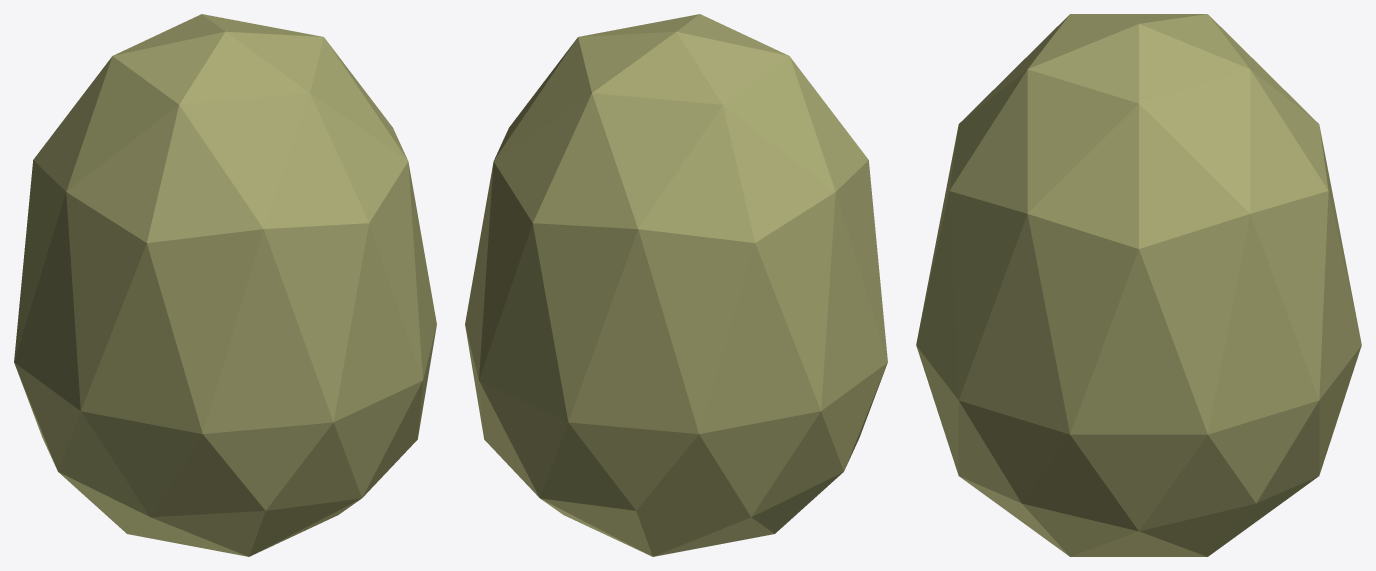
Rendered from egg.glb.
The picture shows the model from 3 angles, left to right: view 1: azimuth 30°, elevation 25°; view 2: azimuth 150°, elevation 25°; view 3: azimuth 270°, elevation 25°; orthographic projection. The views are drawn at different scales.
Parts seen in each view (by area): view 1: egg; view 2: egg; view 3: egg.
Boxes of the visible parts, box(x1,y1,x2,y2) form: egg: box(14, 14, 436, 556); egg: box(465, 14, 887, 556); egg: box(916, 14, 1361, 556).
Bounding box in the file's own units: 1.9 × 2.52 × 2.
